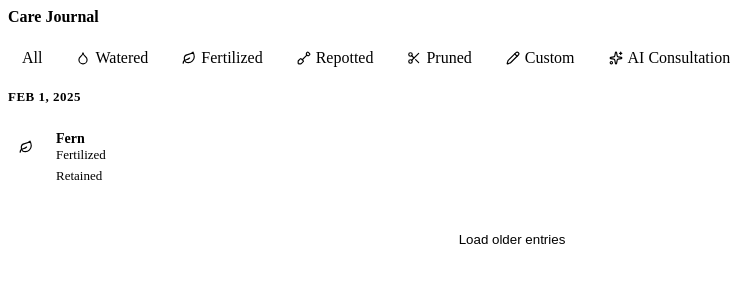
care journal history loading › refreshes from the newest page when the cursor event was deleted
Click the button "Load older entries". click: x=512, y=239
box: [445,219,579,259]
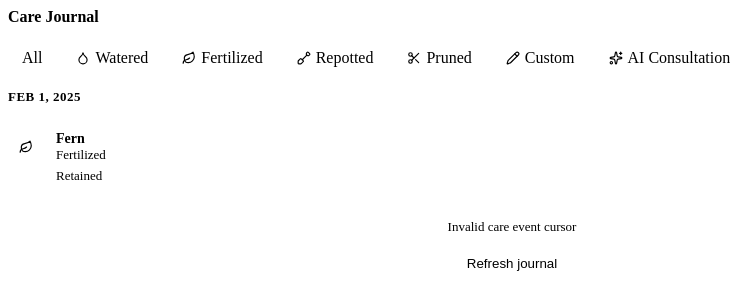
Check: the text "Retained" is shown, box [56,168,102,183]
Check: the button "Refresh journal" is shown
Click the button "Refresh journal". click: x=512, y=263
box: [453,243,571,283]
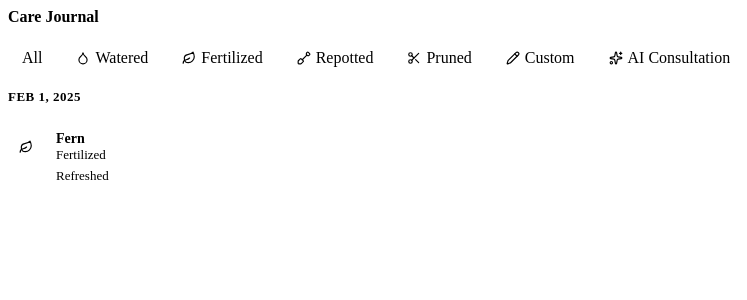
Check: the text "Refreshed" is shown, box [56,168,109,183]
Check: the text "Retained" is gone
